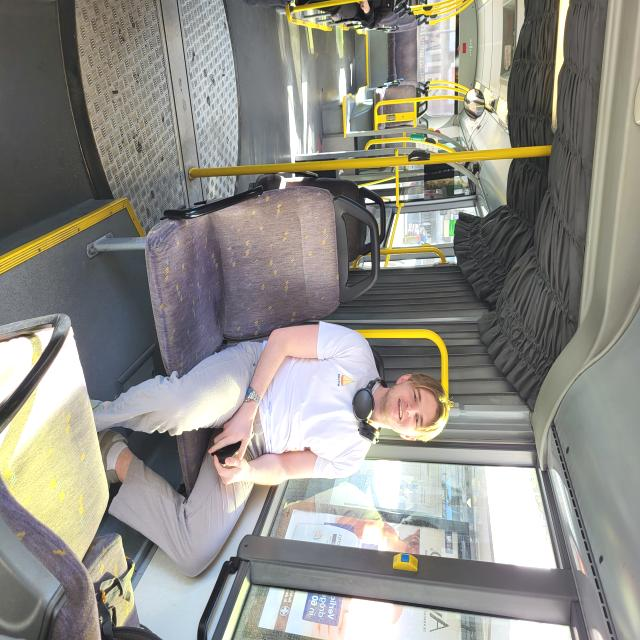asiento-libre: (284, 343, 445, 640), (292, 343, 356, 503), (223, 283, 256, 350), (160, 309, 185, 385), (186, 291, 222, 338), (160, 283, 184, 351), (160, 284, 185, 337), (221, 283, 240, 341), (248, 283, 263, 315)
